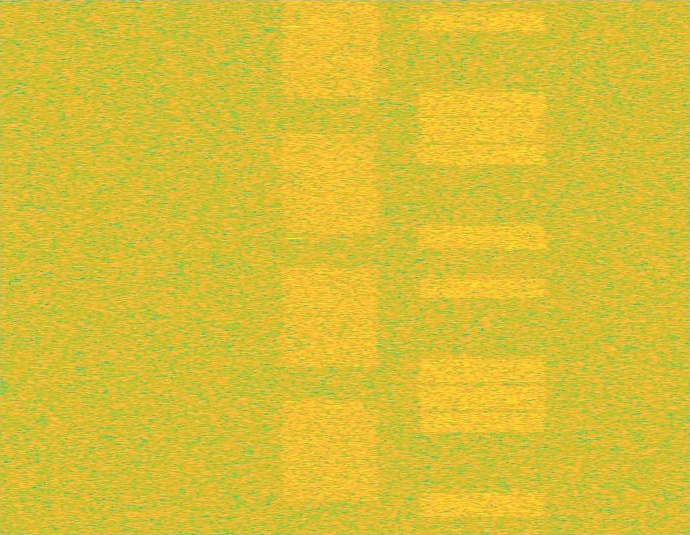5G: (279, 0, 382, 534)
LTE: (414, 0, 552, 534)
Radar: (287, 0, 300, 534)
